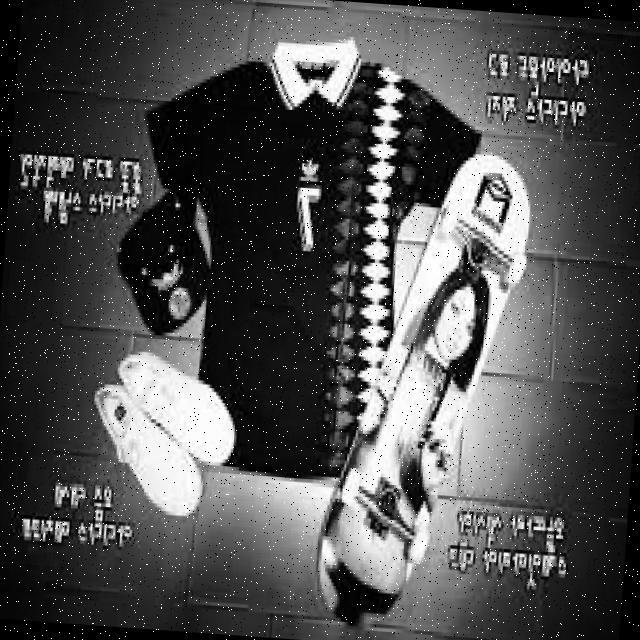Adidas: (296, 152, 324, 182)
